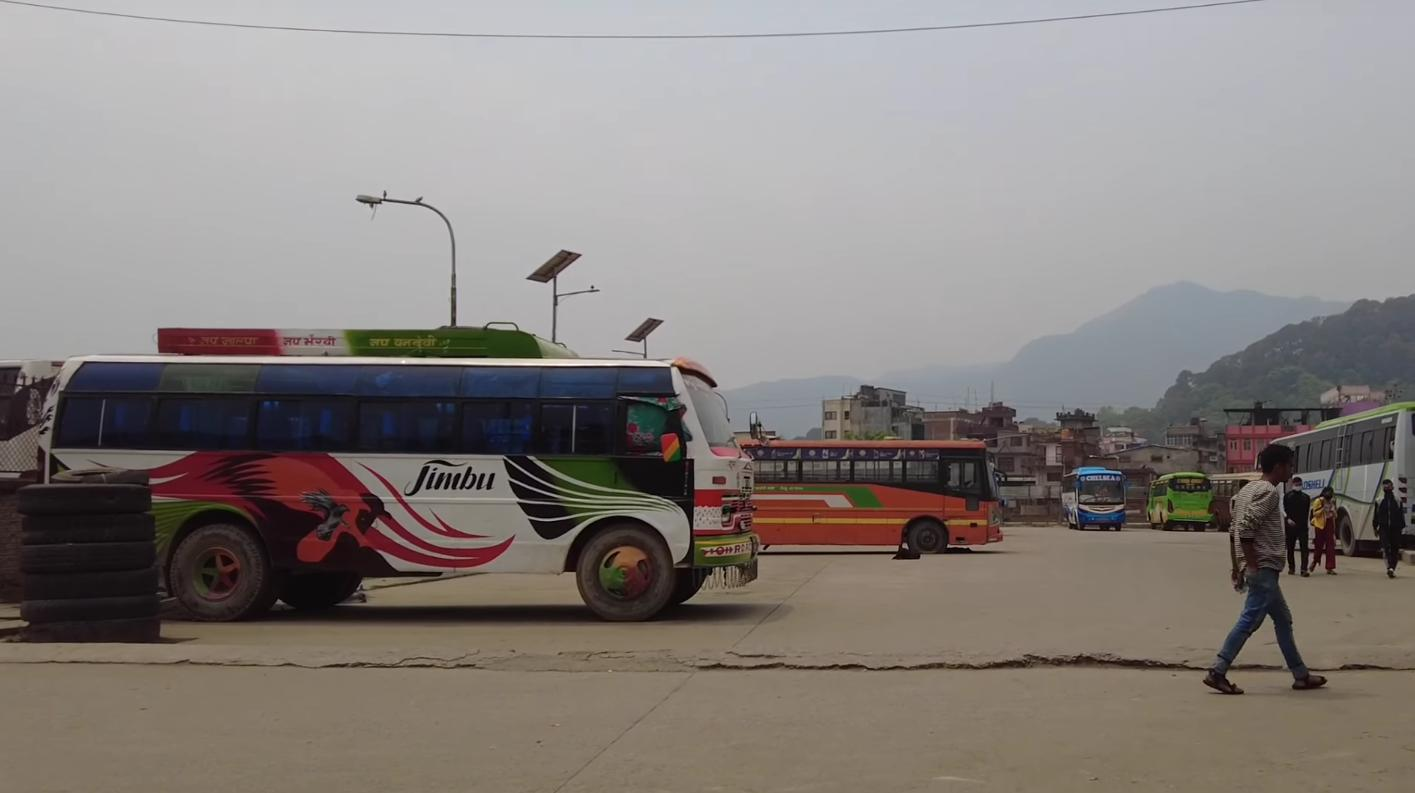bus: (32, 320, 770, 618), (738, 426, 1008, 558), (1268, 395, 1415, 563), (1059, 463, 1131, 535), (1144, 468, 1216, 533)
